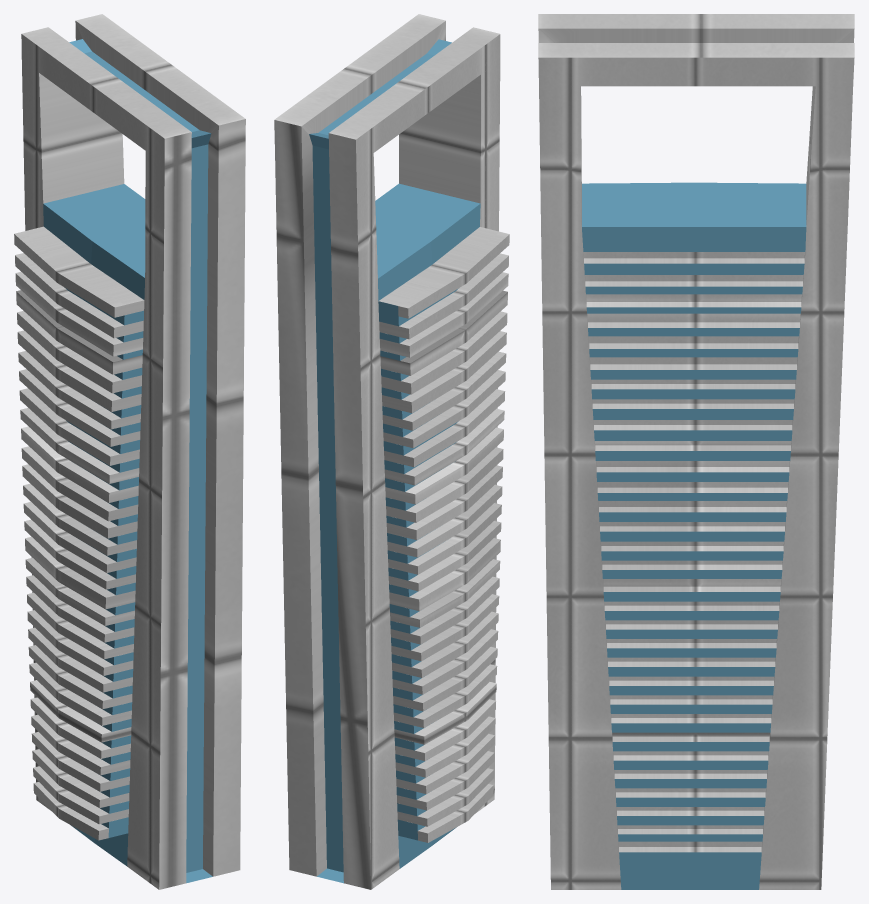
The model's file is Torre_Gob.fbx.
3 renders of one model, left to right at view 1: azimuth 30°, elevation 25°; view 2: azimuth 150°, elevation 25°; view 3: azimuth 270°, elevation 25°, orthographic. The views are drawn at different scales.
Visible parts, largest first — view 1: Cube.875; view 2: Cube.875; view 3: Cube.875.
Part boxes in pixels (<box>): Cube.875: <box>14,14,245,889</box>; Cube.875: <box>274,14,509,889</box>; Cube.875: <box>538,14,854,889</box>.
Bounding box in the file's own units: 113 × 692 × 238.
2 materials, 1 textured.
